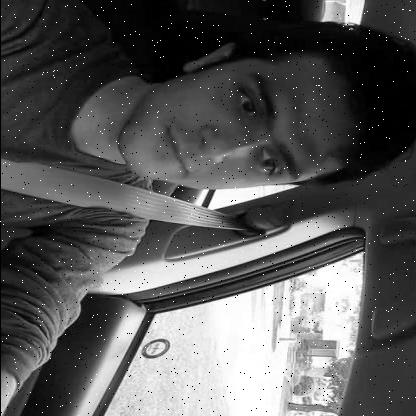seatbelt: (0, 14, 416, 254)
